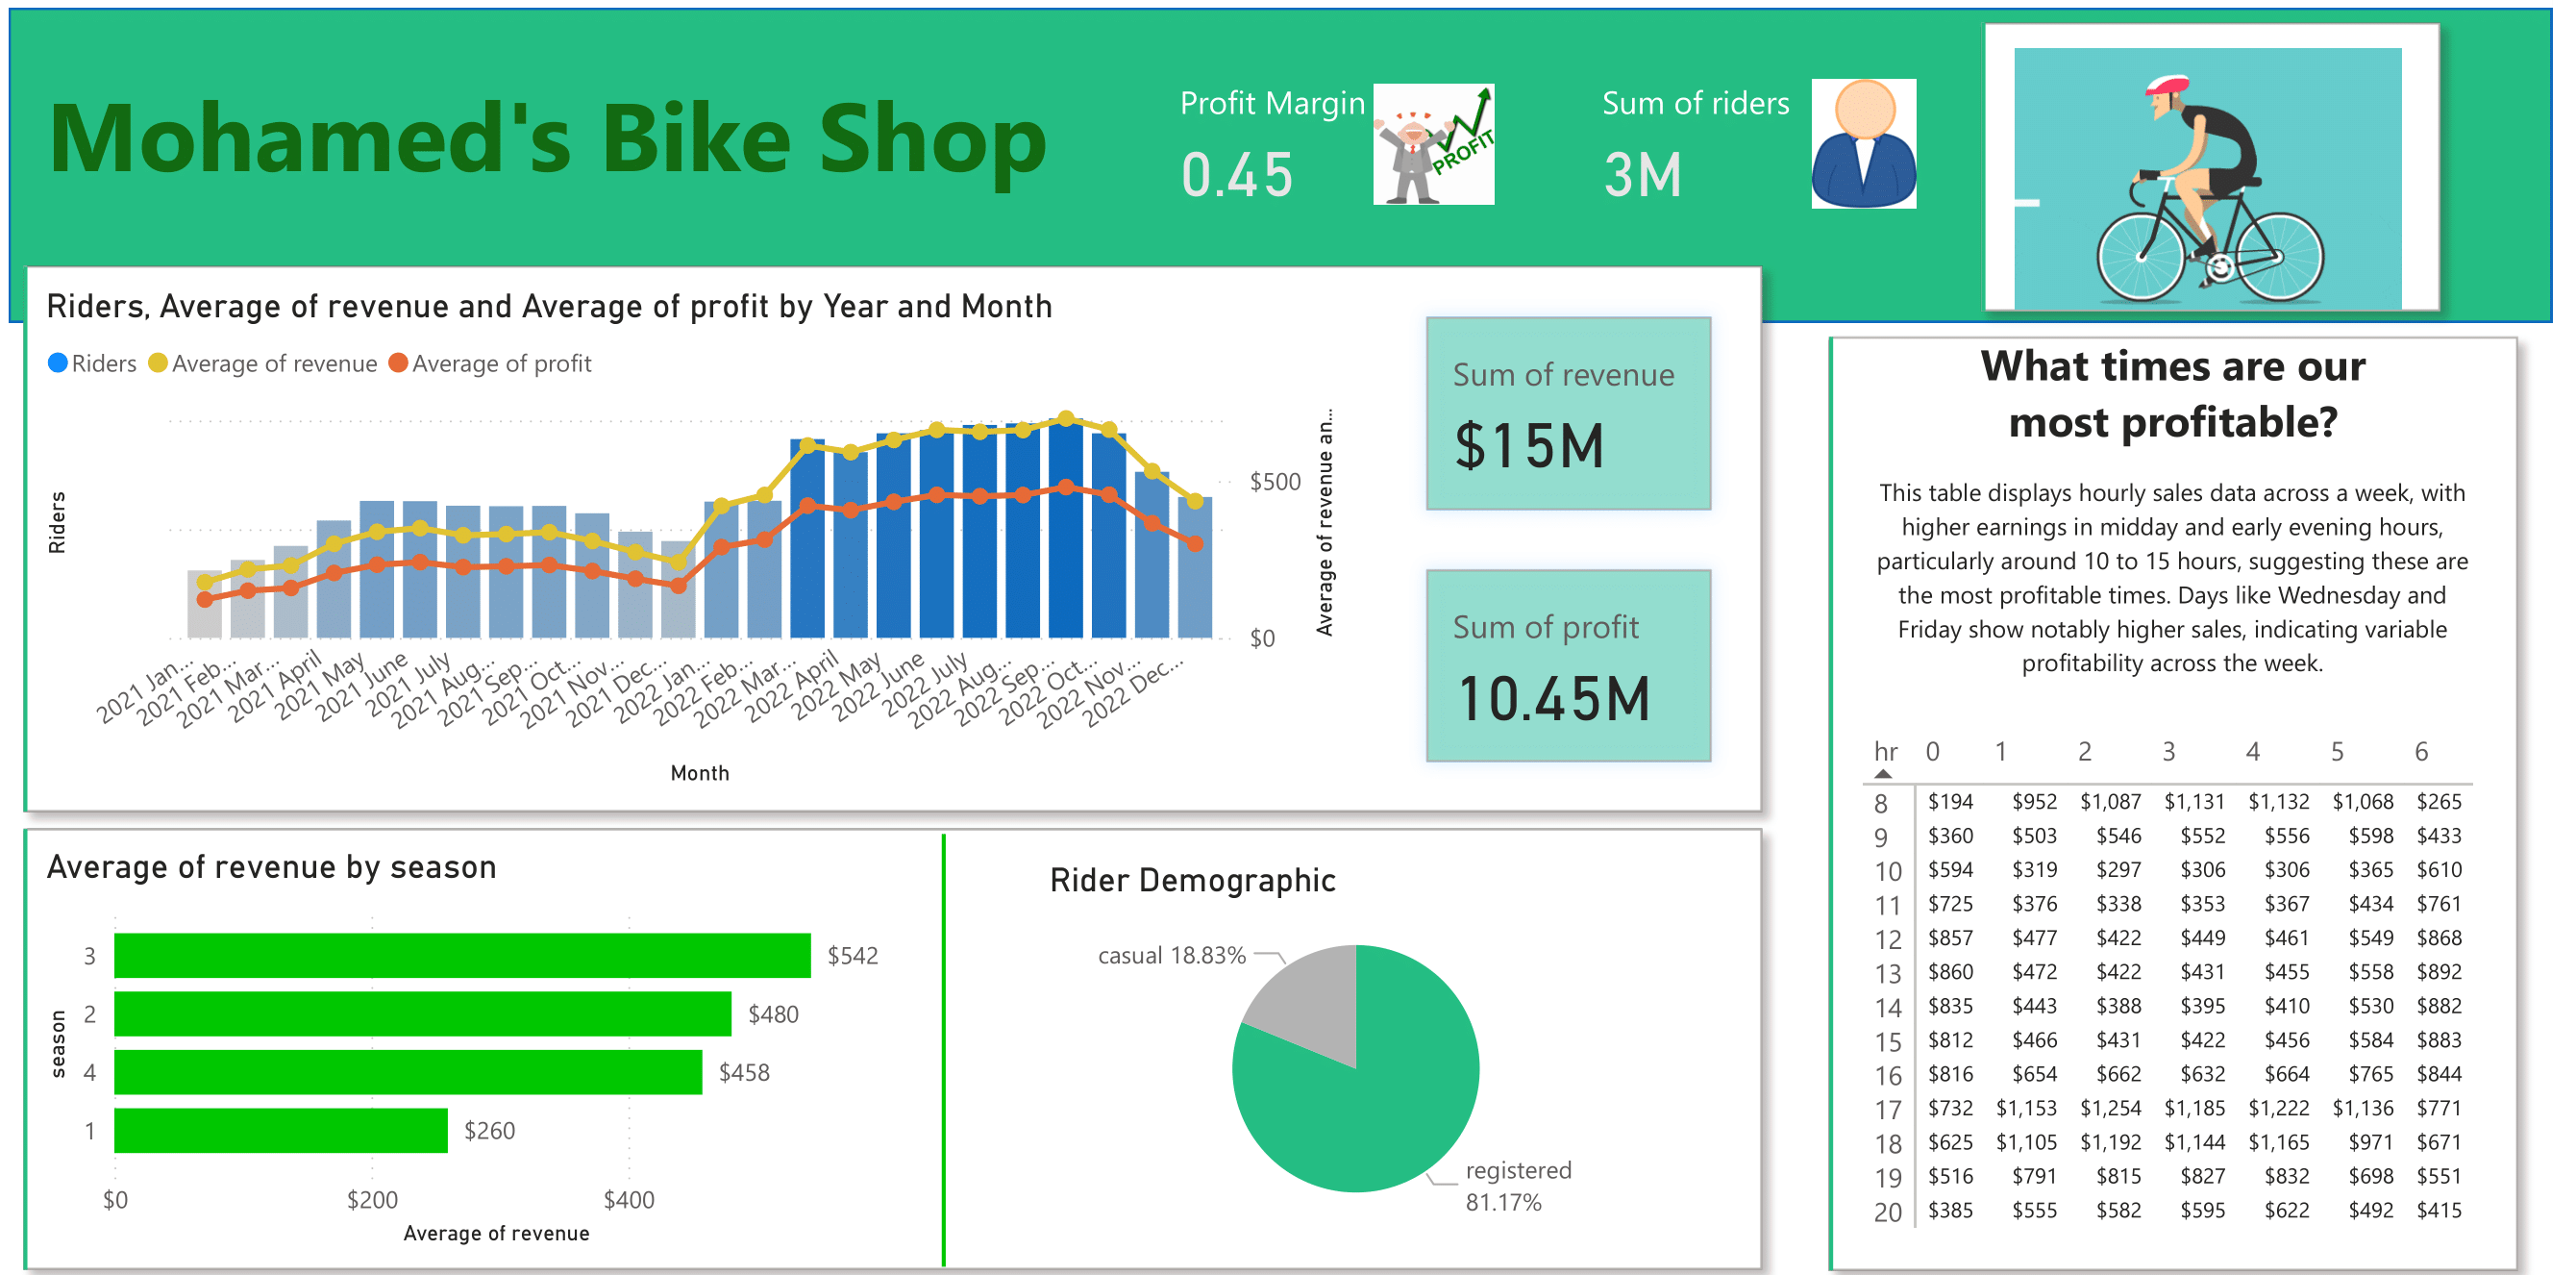

Layout of this report page (visuals, bound fields, positions):
{"tool":"powerbi","page":{"name":"Page 1","canvas":[1280,720],"ordinal":0},"visuals":[{"type":"cardVisual","fields":{"Data":["Query1.riders"]},"box":[902,220,378,500],"z":0},{"type":"shape","box":[10,73,1270,157],"z":1000},{"type":"pivotTable","fields":{"Values":["Query1.revenue"],"Columns":["Query1.weekday"],"Rows":["Query1.hr"]},"box":[931,430,324,273],"z":2000},{"type":"cardVisual","fields":{"Data":["Query1.riders"]},"box":[0,185,902,306],"z":3000},{"type":"cardVisual","fields":{"Data":["Query1.riders"]},"box":[978,63,263,178],"z":4000},{"type":"textbox","box":[984,231,214,72],"z":5000},{"type":"textbox","box":[937,300,307,119],"z":6000},{"type":"lineClusteredColumnComboChart","fields":{"Category":["Query1.dteday.Variation.Date Hierarchy.Year","Query1.dteday.Variation.Date Hierarchy.Month"],"Y":["Query1.riders"],"Y2":["Query1.revenue","Query1.profit"]},"box":[23,212,654,254],"z":7000},{"type":"cardVisual","fields":{"Data":["Query1.riders"]},"box":[0,466,902,254],"z":8000},{"type":"barChart","fields":{"Category":["Query1.season"],"Y":["Query1.revenue"]},"box":[23,491,439,204],"z":9000},{"type":"pieChart","title":"Rider Demographic","fields":{"Category":["Query1.rider_type"],"Y":["Query1.riders"]},"box":[524,498,316,190],"z":10000},{"type":"shape","box":[462,485,29,216],"z":11000},{"type":"cardVisual","fields":{"Data":["Query1.revenue","Query1.profit"]},"box":[702,212,174,254],"z":12000},{"type":"cardVisual","fields":{"Data":["Query1.Profit Margin","Query1.riders"]},"box":[566,81,425,112],"z":13000},{"type":"textbox","box":[23,97,527,96],"z":14000}]}

Visuals, with their boxes on the page's 1280x720 design canvas (x1, y1, x2, y2). These are canvas units, not pixel positions in the 2576x1275 screenshot, which may show the page scaled, cropped or inside an application window:
cardVisual - Query1.riders: {"x1": 902, "y1": 220, "x2": 1280, "y2": 720}
shape: {"x1": 10, "y1": 73, "x2": 1280, "y2": 230}
pivotTable - Query1.revenue x Query1.weekday: {"x1": 931, "y1": 430, "x2": 1255, "y2": 703}
cardVisual - Query1.riders: {"x1": 0, "y1": 185, "x2": 902, "y2": 491}
cardVisual - Query1.riders: {"x1": 978, "y1": 63, "x2": 1241, "y2": 241}
textbox: {"x1": 984, "y1": 231, "x2": 1198, "y2": 303}
textbox: {"x1": 937, "y1": 300, "x2": 1244, "y2": 419}
lineClusteredColumnComboChart - Query1.dteday.Variation.Date Hierarchy.Year x Query1.dteday.Variation.Date Hierarchy.Month: {"x1": 23, "y1": 212, "x2": 677, "y2": 466}
cardVisual - Query1.riders: {"x1": 0, "y1": 466, "x2": 902, "y2": 720}
barChart - Query1.season x Query1.revenue: {"x1": 23, "y1": 491, "x2": 462, "y2": 695}
"Rider Demographic" pieChart: {"x1": 524, "y1": 498, "x2": 840, "y2": 688}
shape: {"x1": 462, "y1": 485, "x2": 491, "y2": 701}
cardVisual - Query1.revenue x Query1.profit: {"x1": 702, "y1": 212, "x2": 876, "y2": 466}
cardVisual - Query1.Profit Margin x Query1.riders: {"x1": 566, "y1": 81, "x2": 991, "y2": 193}
textbox: {"x1": 23, "y1": 97, "x2": 550, "y2": 193}
